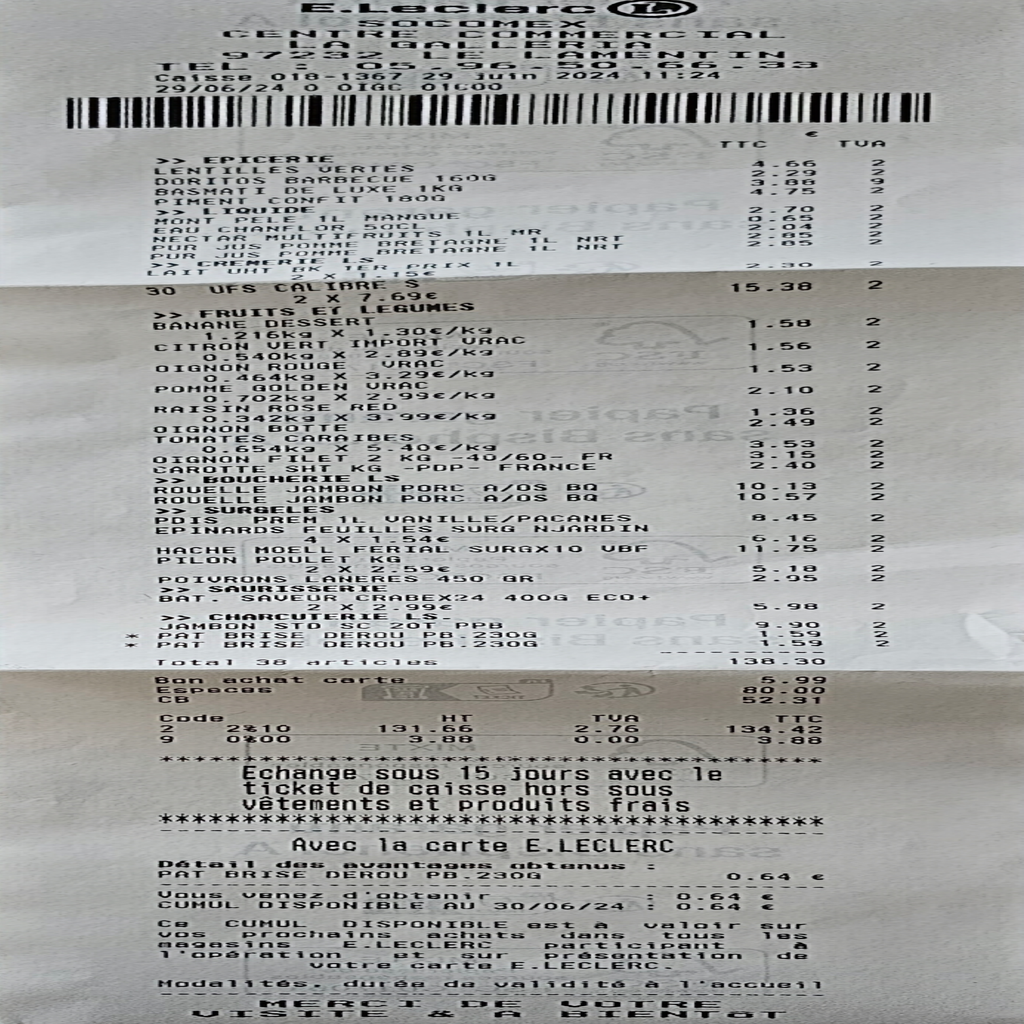recipt: (6, 6, 1016, 1020)
